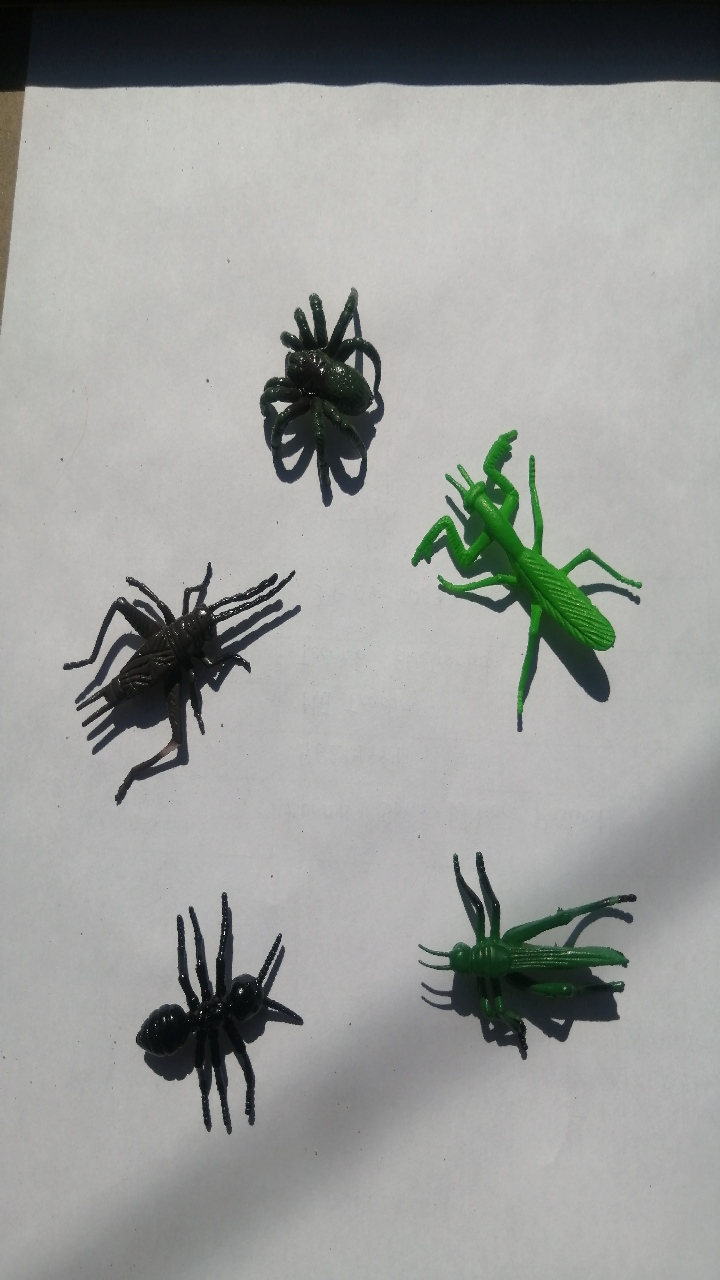intruso: (384, 389, 654, 769), (403, 805, 680, 1099), (35, 520, 283, 806), (98, 863, 308, 1159), (228, 266, 435, 540)
